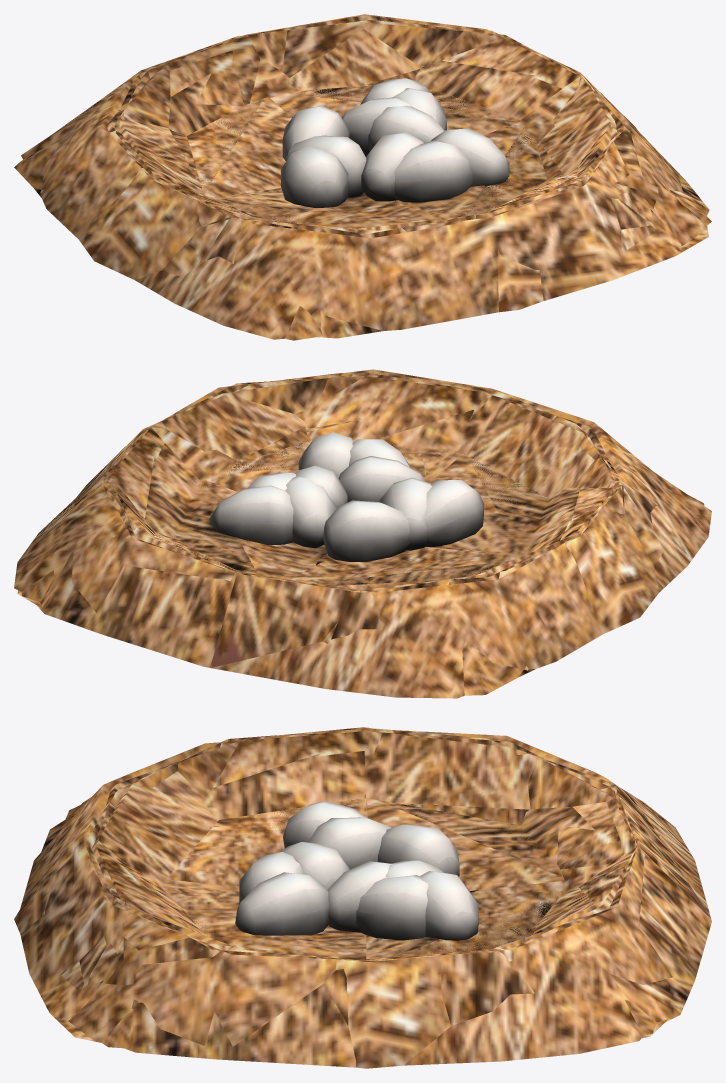
The model's file is eiernester_01.fbx.
3 views of the same model, one above another, from view 1: azimuth 30°, elevation 25°; view 2: azimuth 150°, elevation 25°; view 3: azimuth 270°, elevation 25° (orthographic). The views are drawn at different scales.
Parts seen in each view (by area): view 1: Mesh_ncl1_2, Mesh, Mesh_ncl1_1, Mesh_ncl1_3; view 2: Mesh_ncl1_1, Mesh, Mesh_ncl1_3, Mesh_ncl1_2; view 3: Mesh_ncl1_3, Mesh_ncl1_1, Mesh_ncl1_2, Mesh.
Boxes of the visible parts, x1,y1,x2,y2 form: Mesh_ncl1_2: (34,21,708,339); Mesh: (14,20,707,338); Mesh_ncl1_1: (21,15,711,277); Mesh_ncl1_3: (118,14,709,340); Mesh_ncl1_1: (37,372,664,698); Mesh: (17,373,658,695); Mesh_ncl1_3: (14,374,704,643); Mesh_ncl1_2: (21,369,711,676); Mesh_ncl1_3: (14,730,672,1067); Mesh_ncl1_1: (69,728,711,1068); Mesh_ncl1_2: (20,731,657,1042); Mesh: (41,727,709,1046).
Size of the model in its own units: 52.59 by 6.72 by 52.51.
